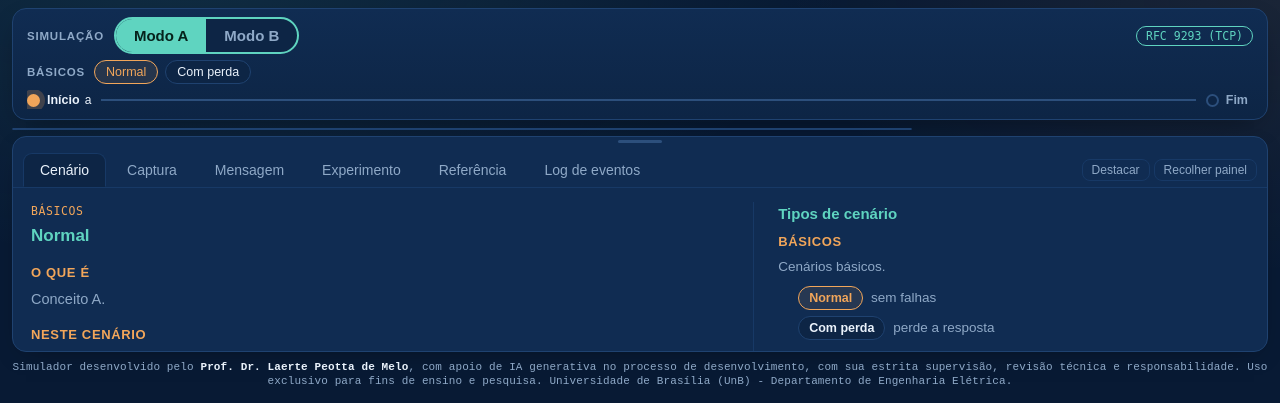
Test: Workbench › cenário com perda aplica os parâmetros e abre os ajustes avançados
Click the button "Com perda" below "Simulação": (208, 72) [165,60,251,84]
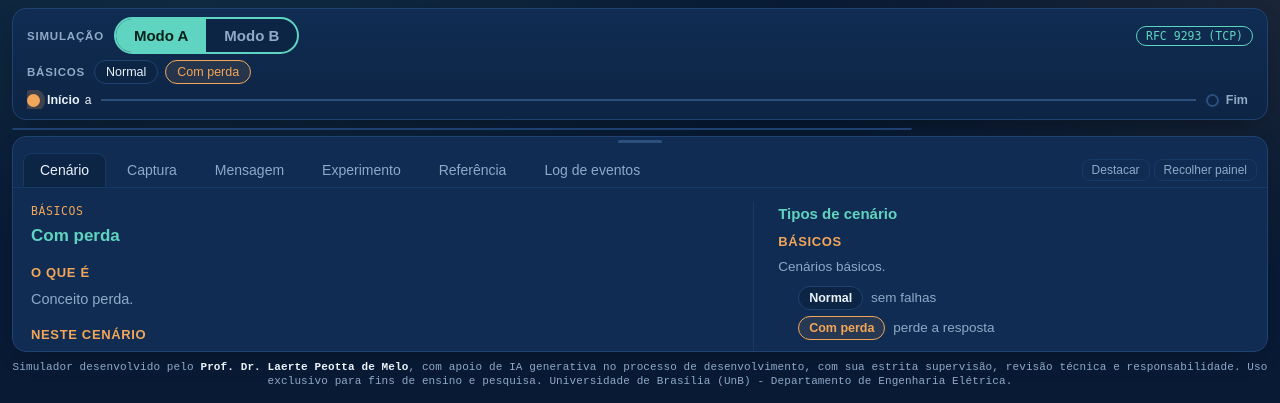
Click the tab "Experimento": (361, 170) [305,153,418,187]
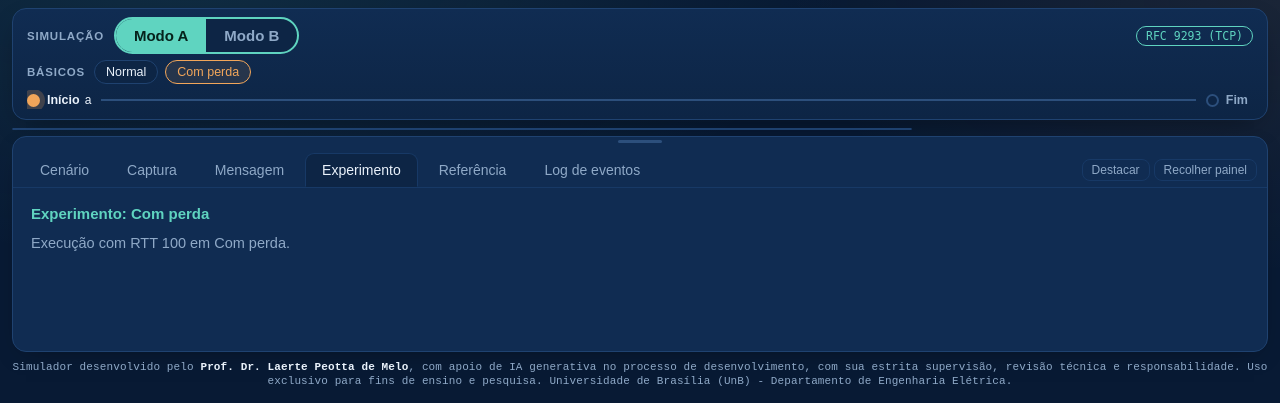
Expected: the text "Execução com RTT 100 em Com perda." is shown, [31,235,290,251]
